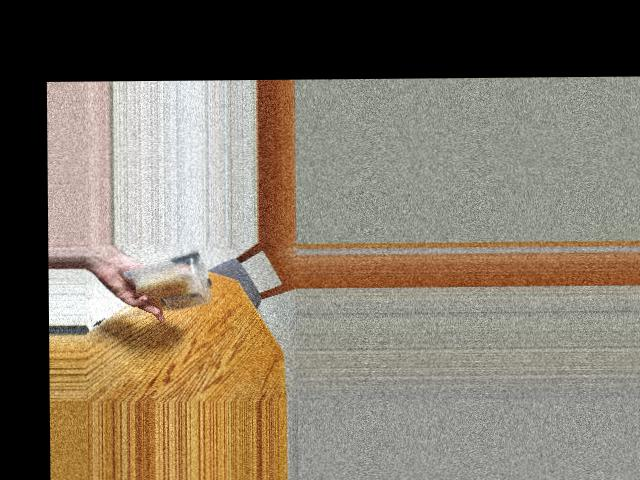cheese: (132, 252, 214, 314)
